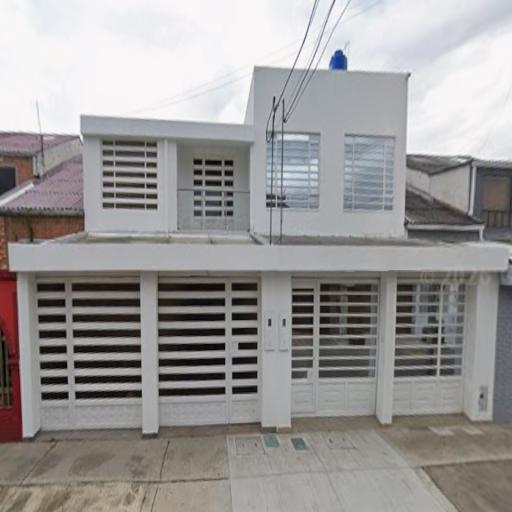fachada: (3, 56, 502, 434)
